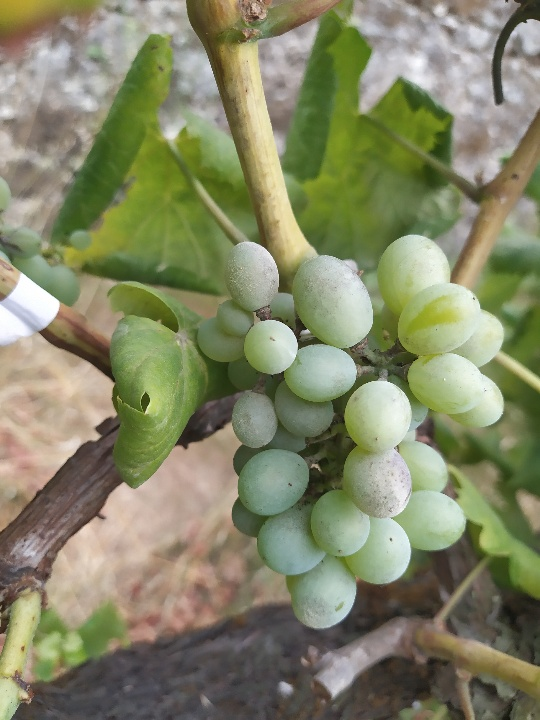grape: (195, 235, 513, 628)
